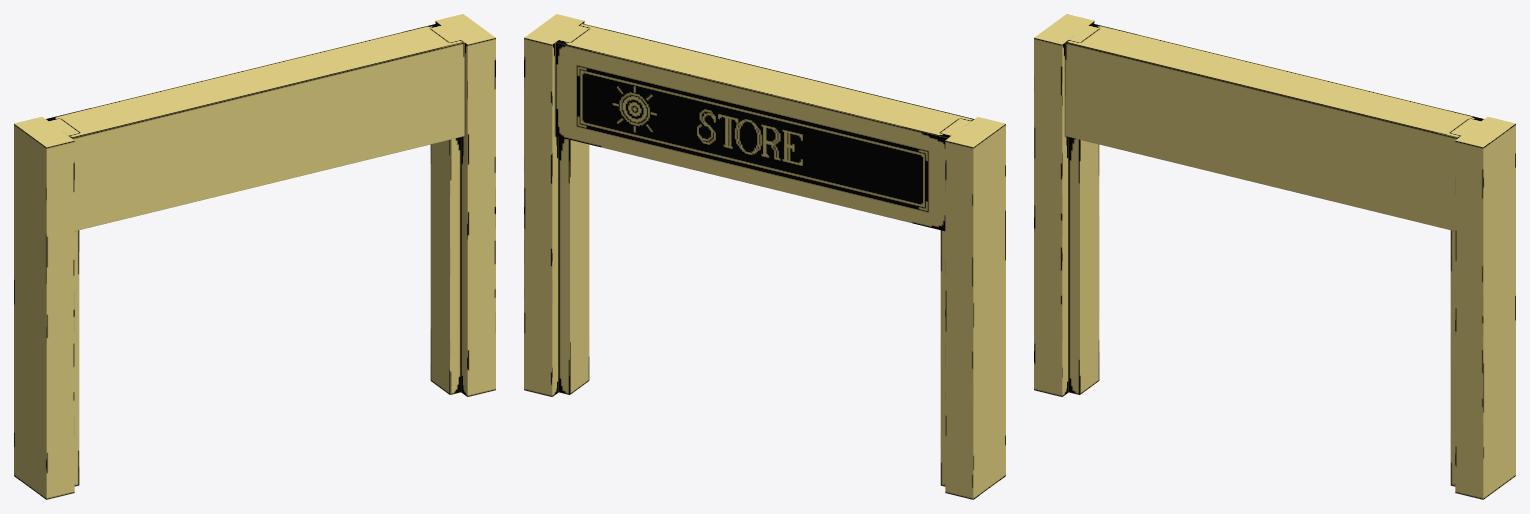
The model's file is StoreFront_Day.fbx.
3 renders of one model, left to right at view 1: azimuth 30°, elevation 25°; view 2: azimuth 150°, elevation 25°; view 3: azimuth 330°, elevation 25°, orthographic.
Parts seen in each view (by area): view 1: plane; view 2: plane; view 3: plane.
Boxes of the visible parts, box(x1,y1,x2,y2) form: plane: box(14, 14, 495, 499); plane: box(524, 14, 1005, 499); plane: box(1034, 14, 1515, 499).
Bounding box in the file's own units: 500 × 375 × 62.5.
Materials: 1 (1 with a texture image).
